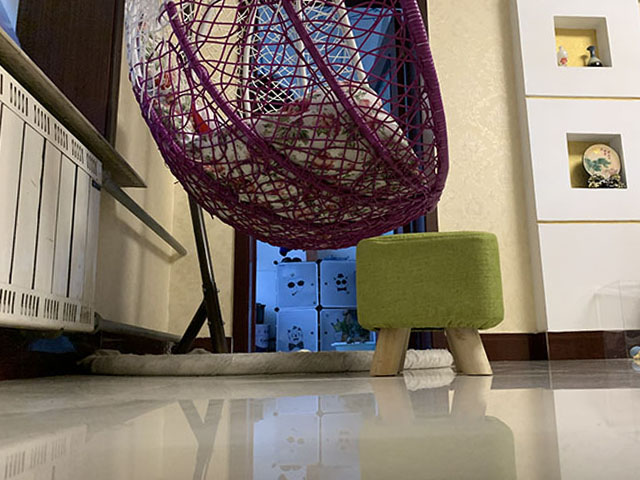cabinet: (273, 257, 376, 352)
stool: (356, 232, 508, 380)
